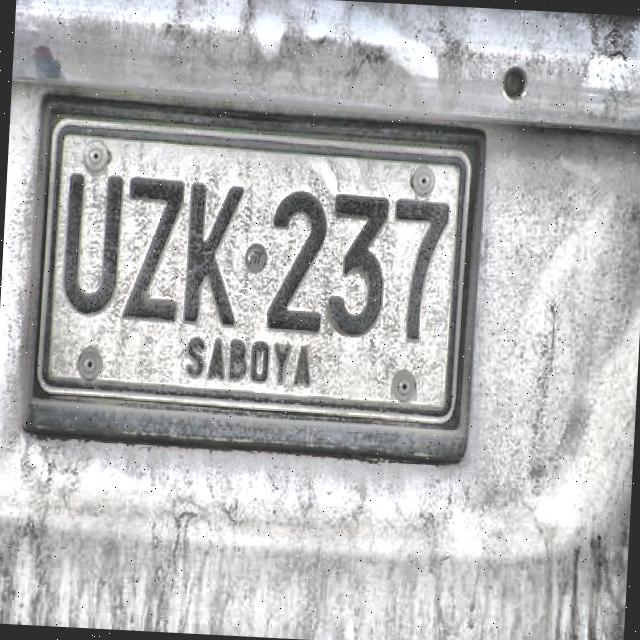2: (262, 180, 332, 336)
3: (324, 183, 394, 346)
7: (386, 194, 454, 348)
K: (180, 177, 248, 330)
U: (60, 170, 128, 321)
Z: (120, 175, 188, 326)
